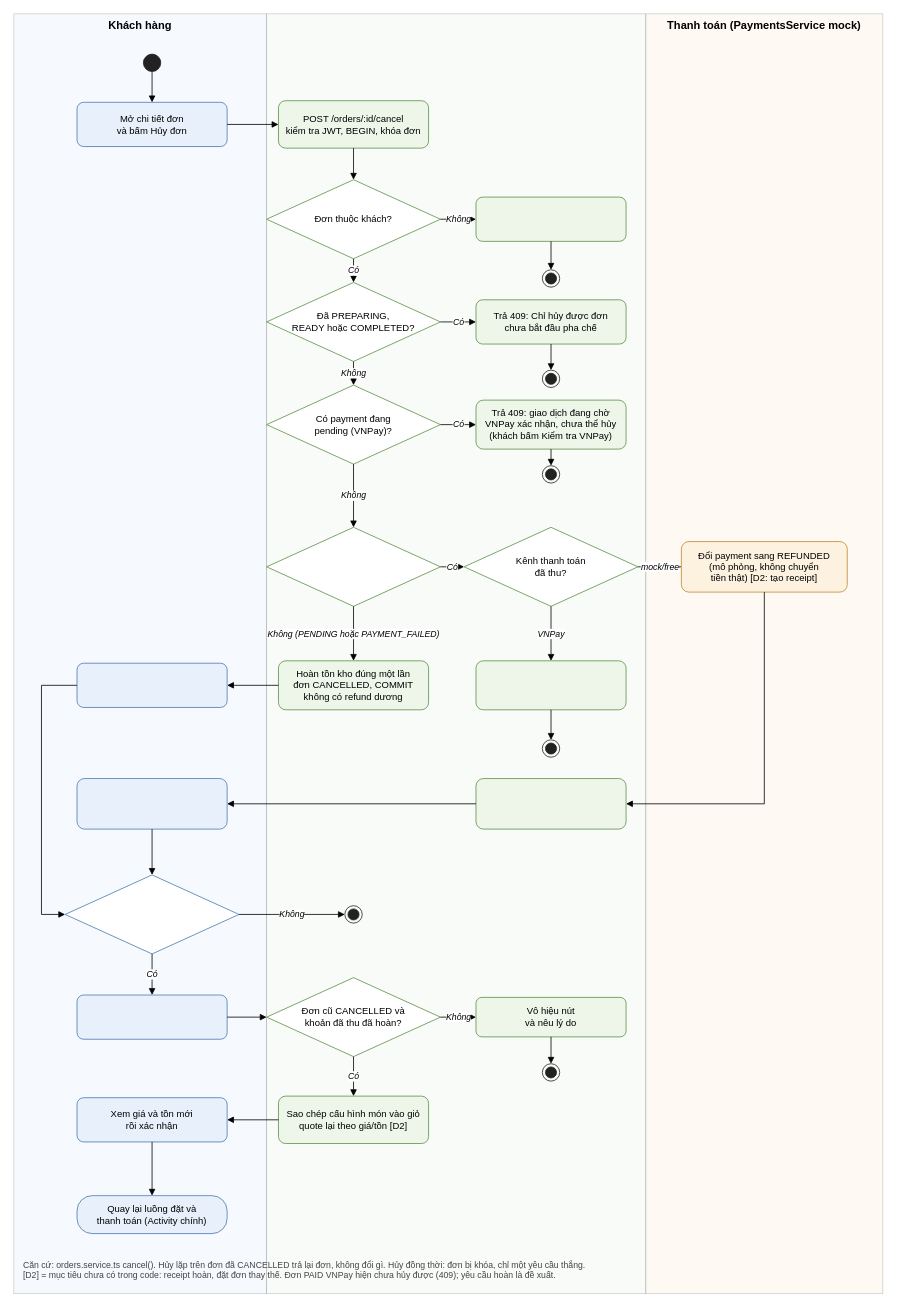
This 897x1307 diagram has some shape labels left out. The shapes that lost their labels are listed below. From the top down, each one's box as (x1, y1, x2, y2) in pixels, then its label:
(475, 196, 626, 241): Trả 404 đơn không đổi
(266, 527, 440, 606): Đã thu tiền (đơn PAID)?
(266, 13, 646, 1294): Hệ thống (Next.js và NestJS)
(76, 662, 227, 707): Thấy đơn CANCELLED không có khoản hoàn
(475, 660, 626, 710): Trả 409: cần hoàn tiền qua cổng; chỉ mock/free hoàn tự động
(76, 778, 227, 829): Thấy đơn CANCELLED, payment refunded [D2: xem receipt hoàn]
(475, 778, 626, 829): Thu hồi điểm (ADJUST) hoàn tồn kho đơn CANCELLED, COMMIT
(64, 874, 239, 954): Muốn đổi món?
(76, 994, 227, 1039): Bấm Đặt đơn thay thế [D2: chưa có trong code]
